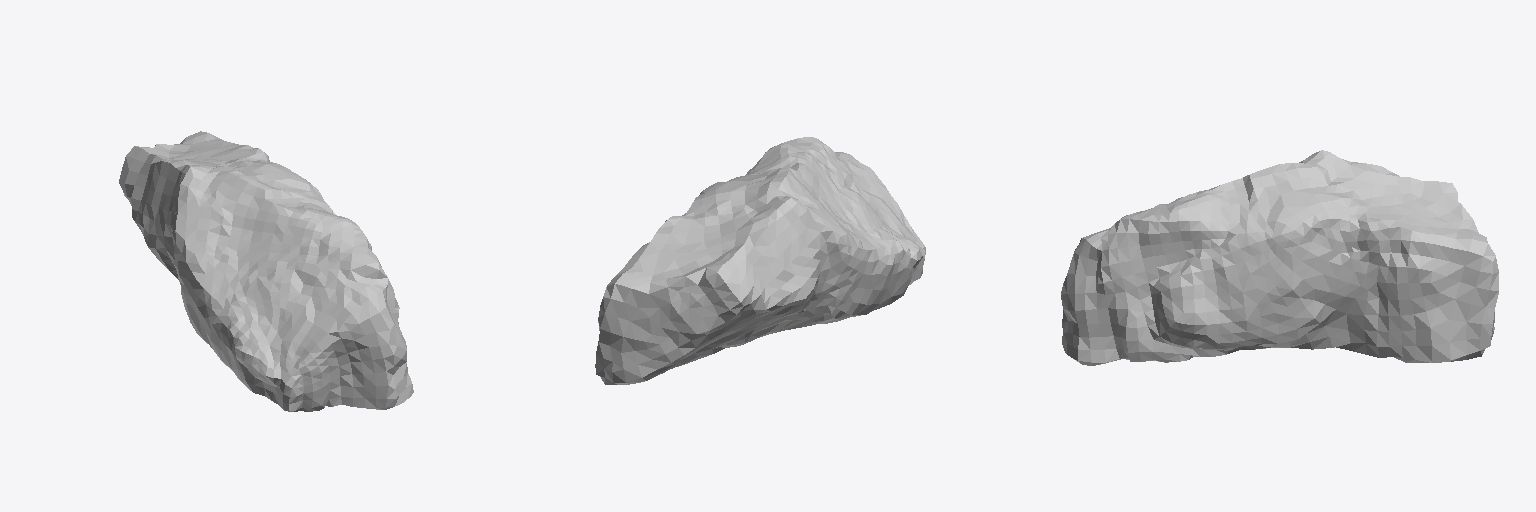
File: rock1.obj
3 renders of one model, left to right at view 1: azimuth 30°, elevation 25°; view 2: azimuth 150°, elevation 25°; view 3: azimuth 270°, elevation 25°, orthographic.
Parts seen in each view (by area): view 1: Stone_01_Base.013; view 2: Stone_01_Base.013; view 3: Stone_01_Base.013.
Boxes of the visible parts, <box> form: Stone_01_Base.013: <box>119,131,413,411</box>; Stone_01_Base.013: <box>595,137,925,384</box>; Stone_01_Base.013: <box>1061,150,1498,365</box>.
Bounding box in the file's own units: 16.96 × 16.13 × 37.98.